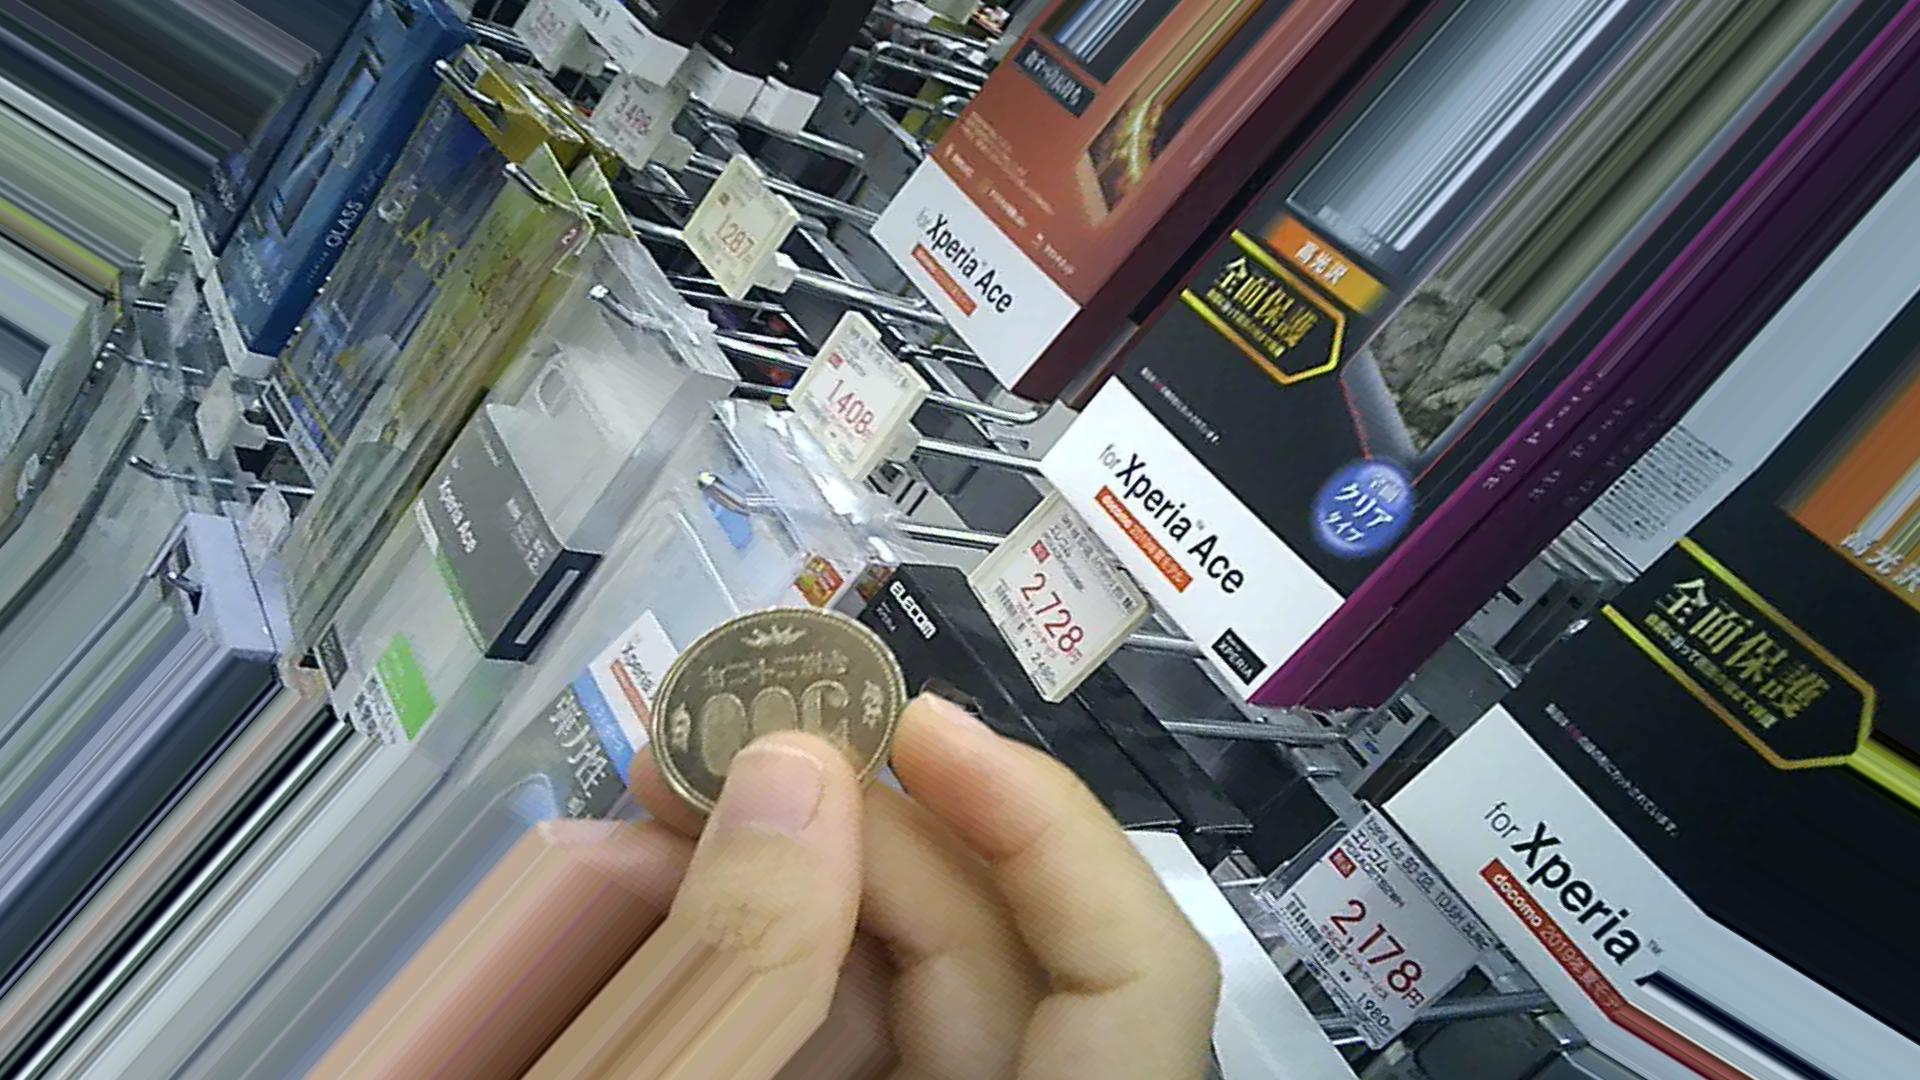500 Yen: (649, 592, 905, 806)
